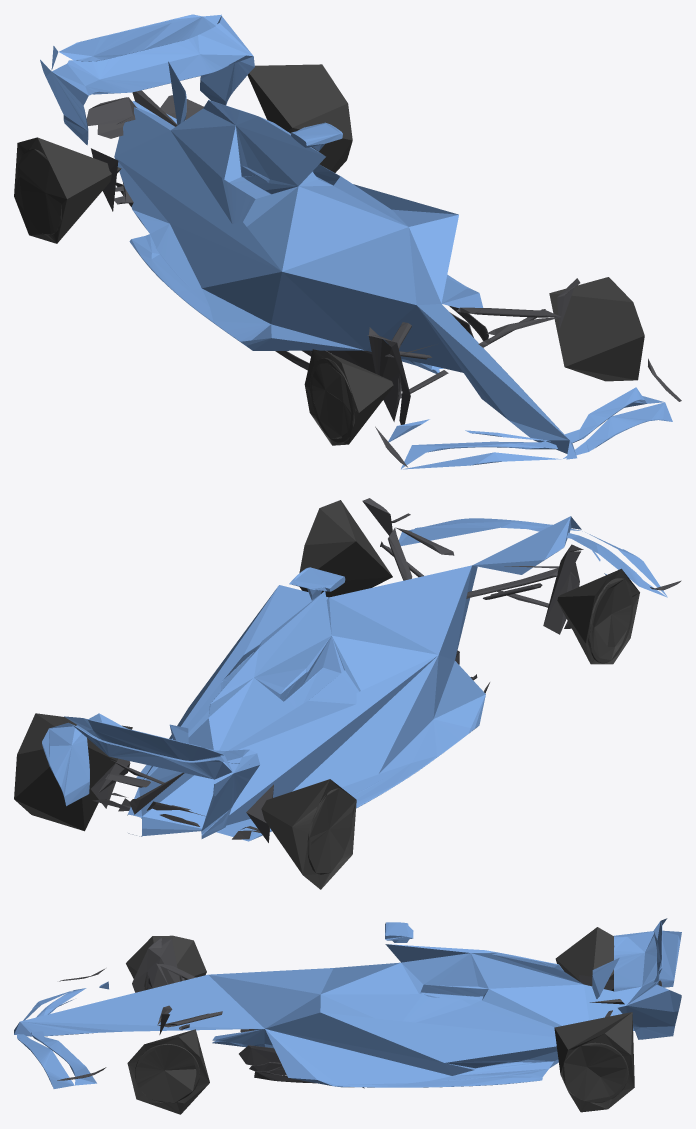
Rendered from f1car_lod.glb.
3 renders of one model, top to bottom at view 1: azimuth 30°, elevation 25°; view 2: azimuth 150°, elevation 25°; view 3: azimuth 270°, elevation 25°, orthographic. The views are drawn at different scales.
Parts seen in each view (by area): view 1: lod_paint, lod_tyre, lod_dark; view 2: lod_paint, lod_tyre, lod_dark; view 3: lod_paint, lod_tyre, lod_dark.
Boxes of the visible parts, x1,y1,x2,y2 form: lod_paint: (40, 14, 672, 469); lod_tyre: (14, 64, 644, 445); lod_dark: (86, 90, 681, 467); lod_paint: (42, 516, 667, 841); lod_tyre: (14, 500, 639, 889); lod_dark: (91, 498, 681, 842); lod_paint: (14, 918, 681, 1088); lod_tyre: (126, 927, 634, 1114); lod_dark: (57, 936, 661, 1088).
Bounding box in the file's own units: 2.13 × 1.32 × 5.59.
